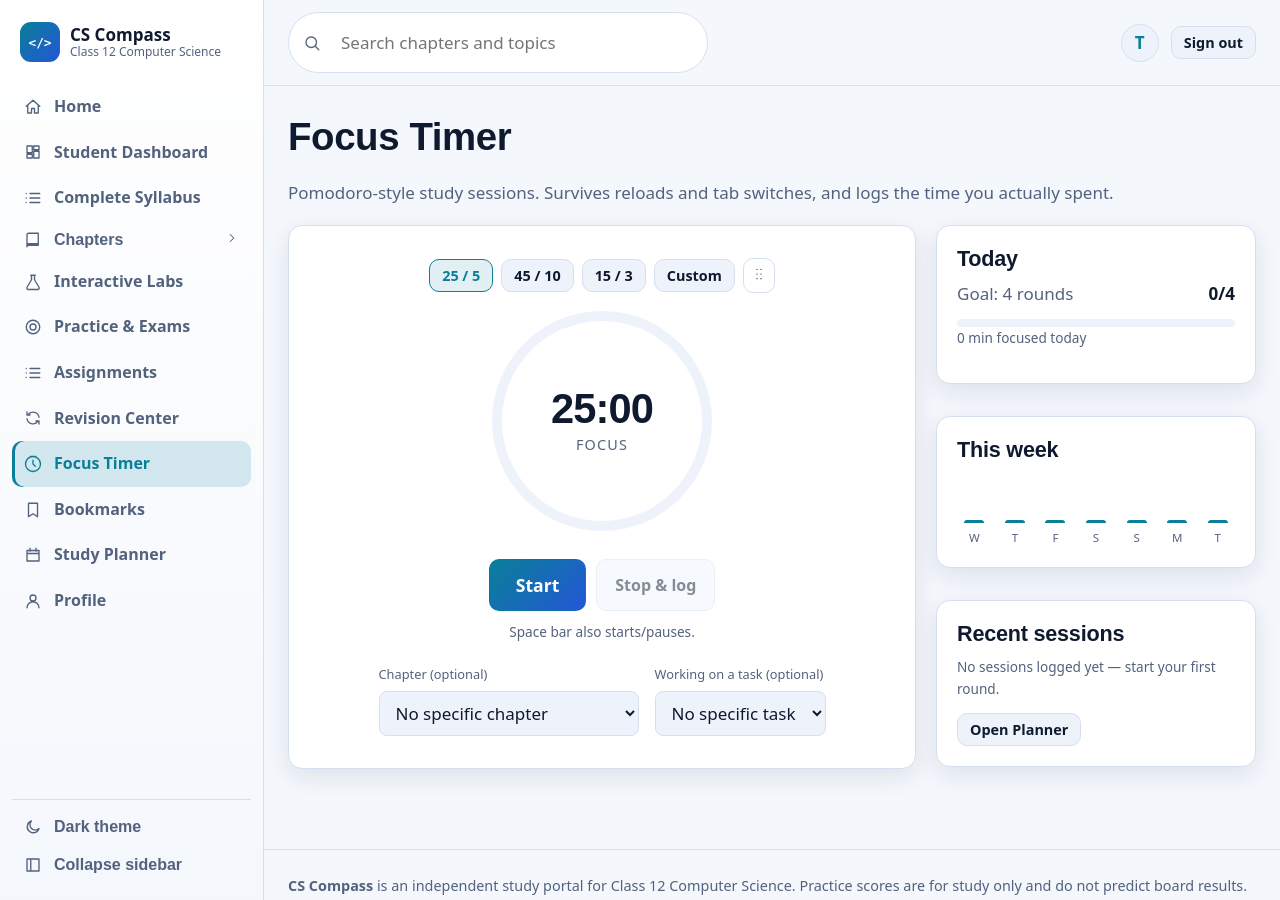
it: focus timer › stopping early logs only the minutes actually spent, as not completed
This screenshot has width=1280, height=900.
Expected: the heading "Focus Timer" is shown, [288, 115, 511, 158]
Expected: the text "0/4" is shown, [1208, 280, 1235, 307]
What coordinates should you click on to do the following:
click the button "Start"
I would click on:
 (538, 585)
Its box is [489, 559, 586, 611].
Wait 300000 ms
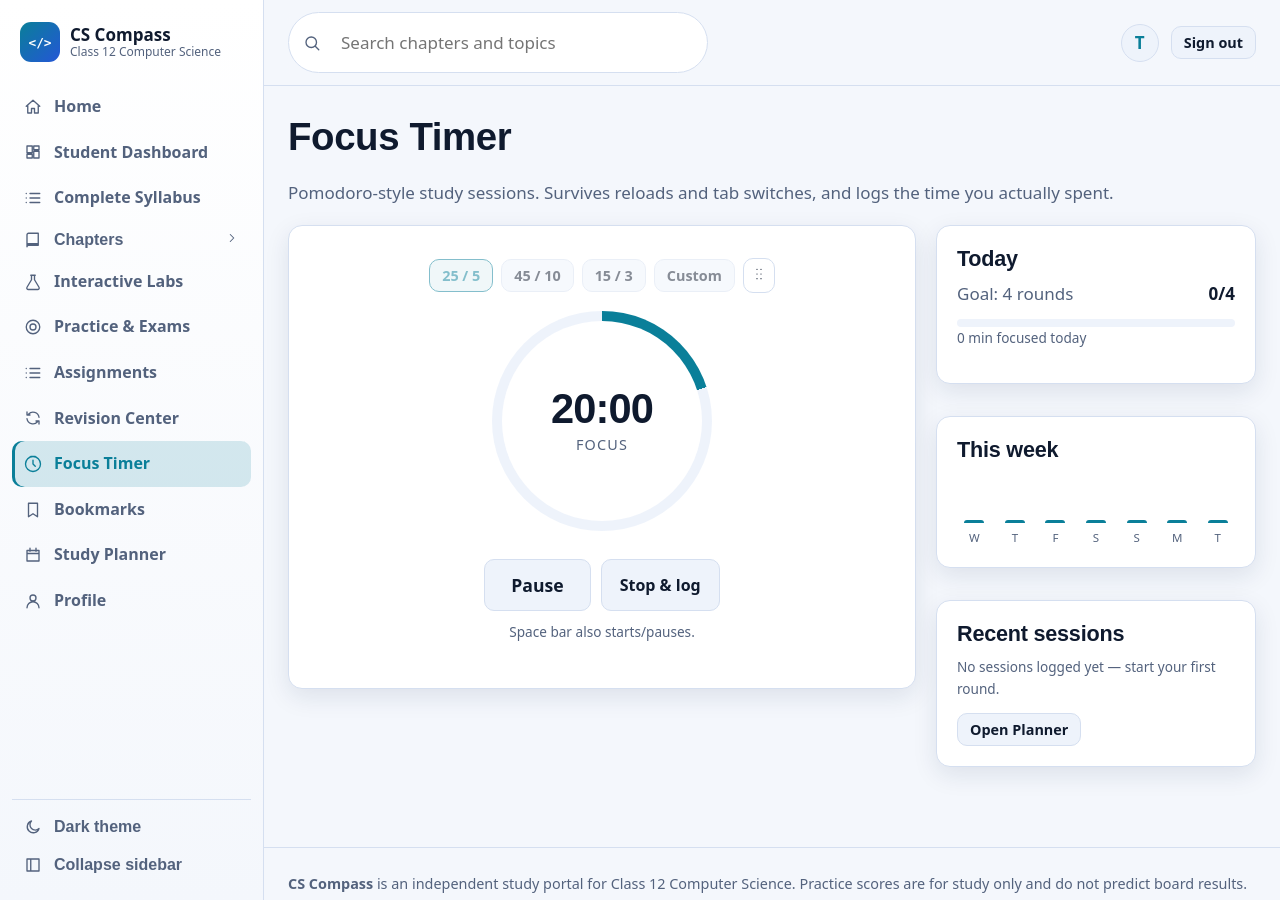
What coordinates should you click on to do the following:
click the button "Stop & log"
I would click on:
 (660, 585)
Its box is [601, 559, 720, 611].
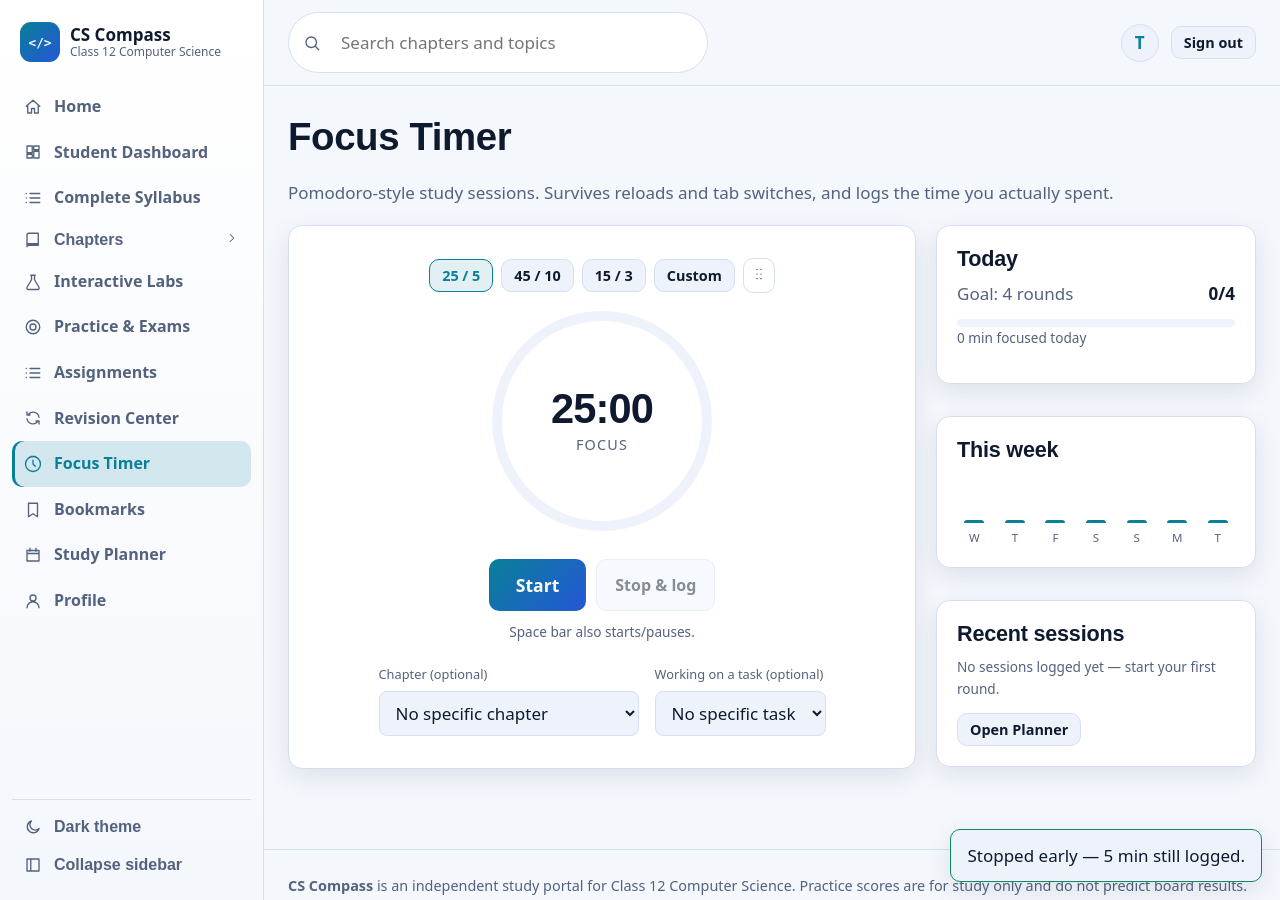
Expected: the element showing "25:00 Focus" is shown, [492, 311, 712, 531]
